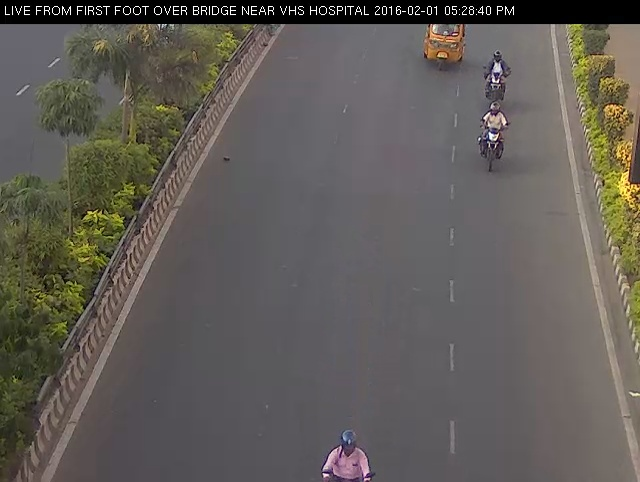Car: (415, 15, 471, 73)
Person: (310, 405, 381, 481), (476, 100, 512, 176), (477, 46, 513, 115)
